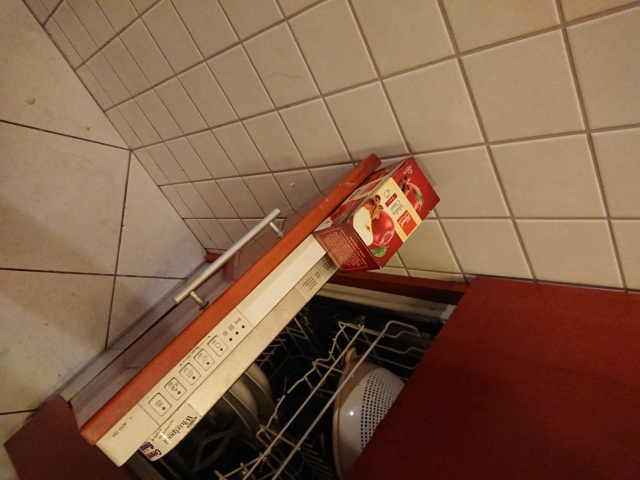Franck Apple Cinnamon Tea 60g: (308, 152, 442, 276)
